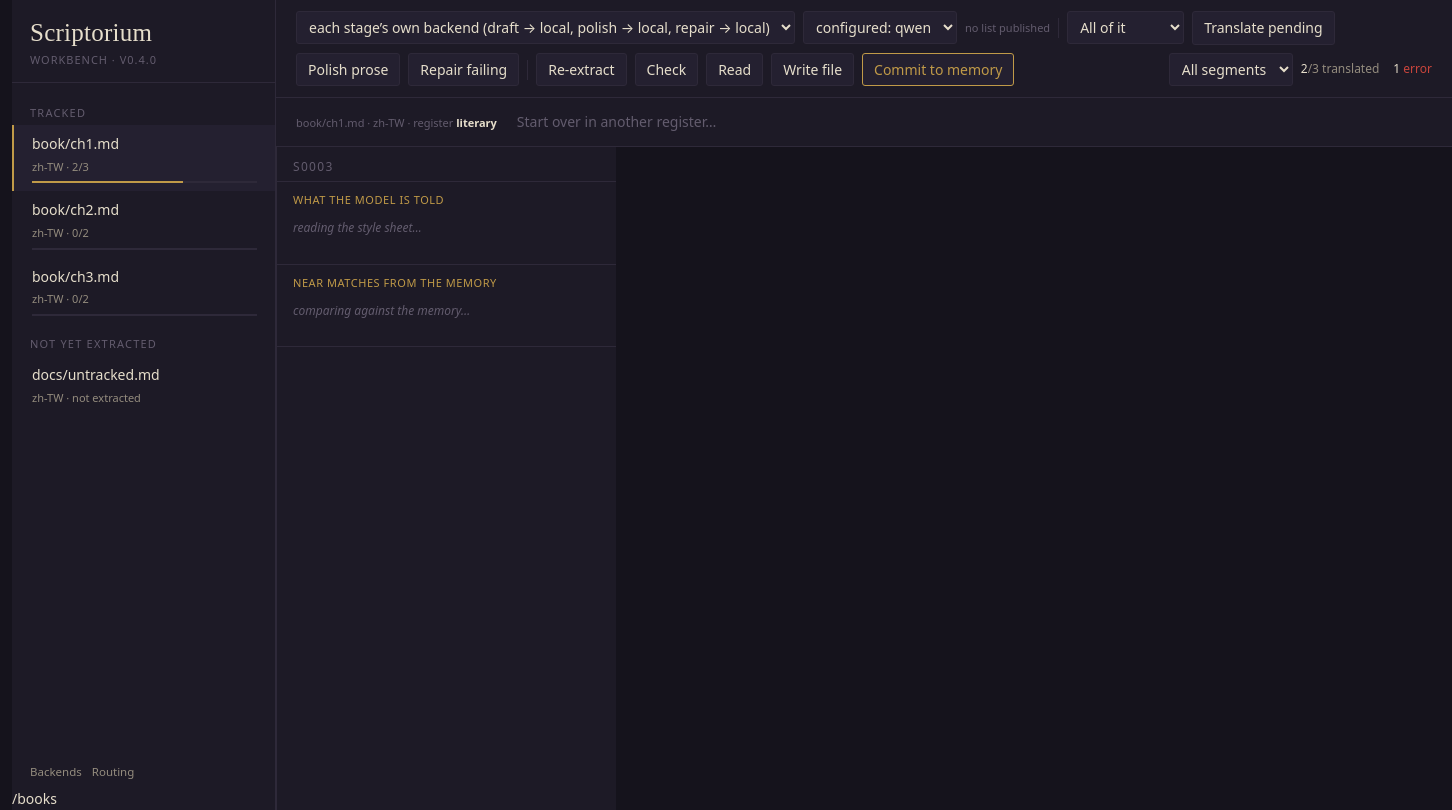
Scenario: what the page acts on is what it has just read › offers nothing over a read that never reached the server, and logs it
The width and height of the screenshot is (1452, 810).
Check: the text "/3 translated" is shown, box [1301,60,1379,79]
Click the button "docs/untracked.md zh-TW · not extracted" at (144, 386), box [12,356,275,416]
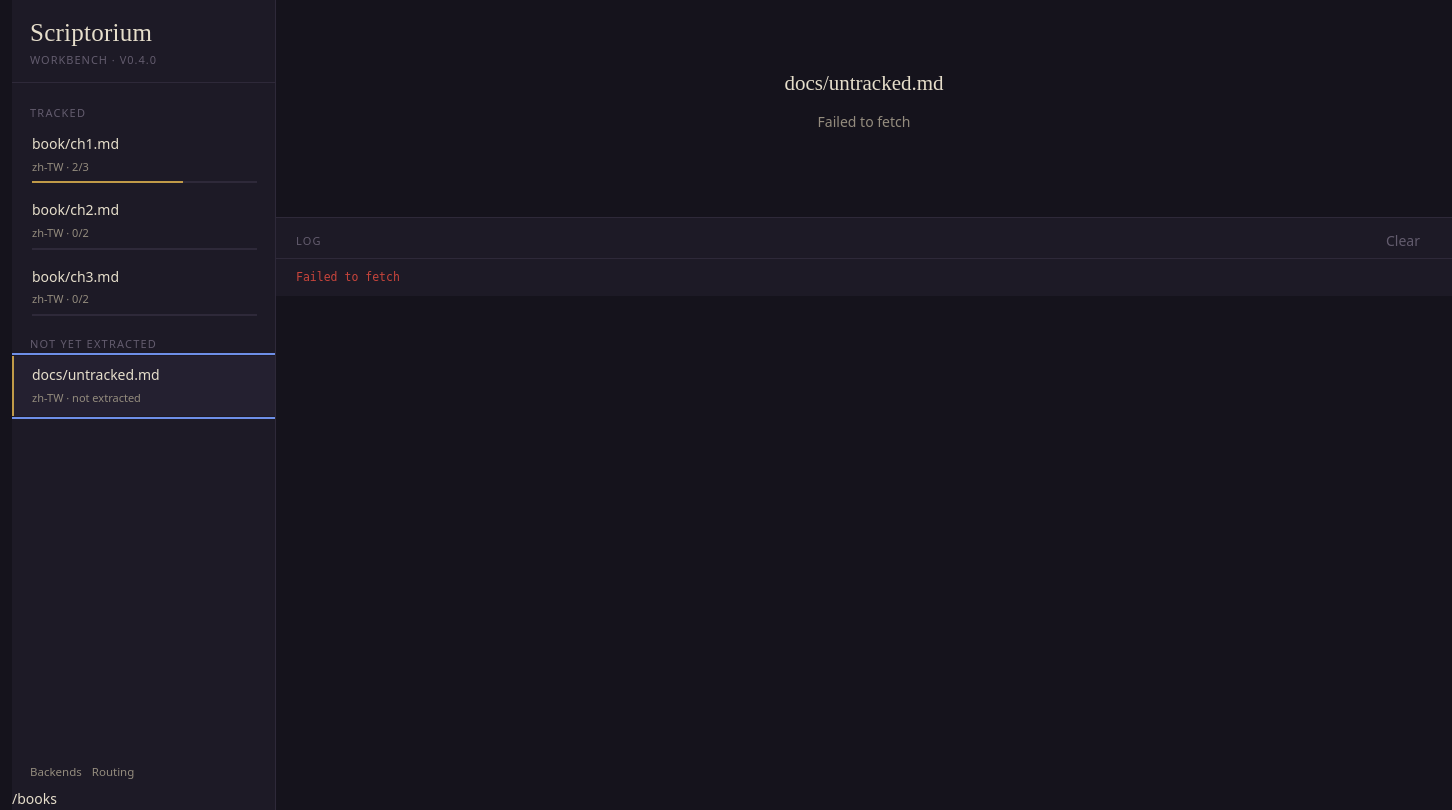
Check: the 1st text "Failed to fetch" is shown, box [818,112,910,131]
